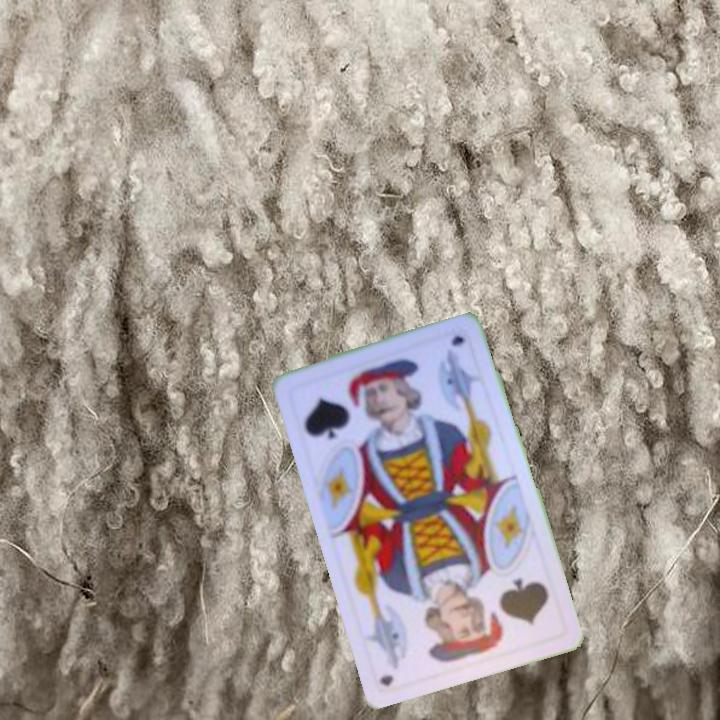s_j.png: (288, 355, 407, 464), (446, 554, 565, 663)
